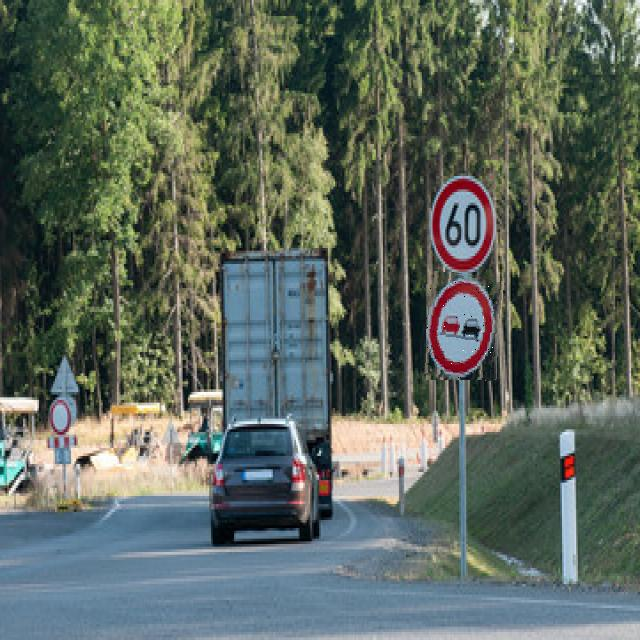no overtaking: (426, 272, 501, 380)
